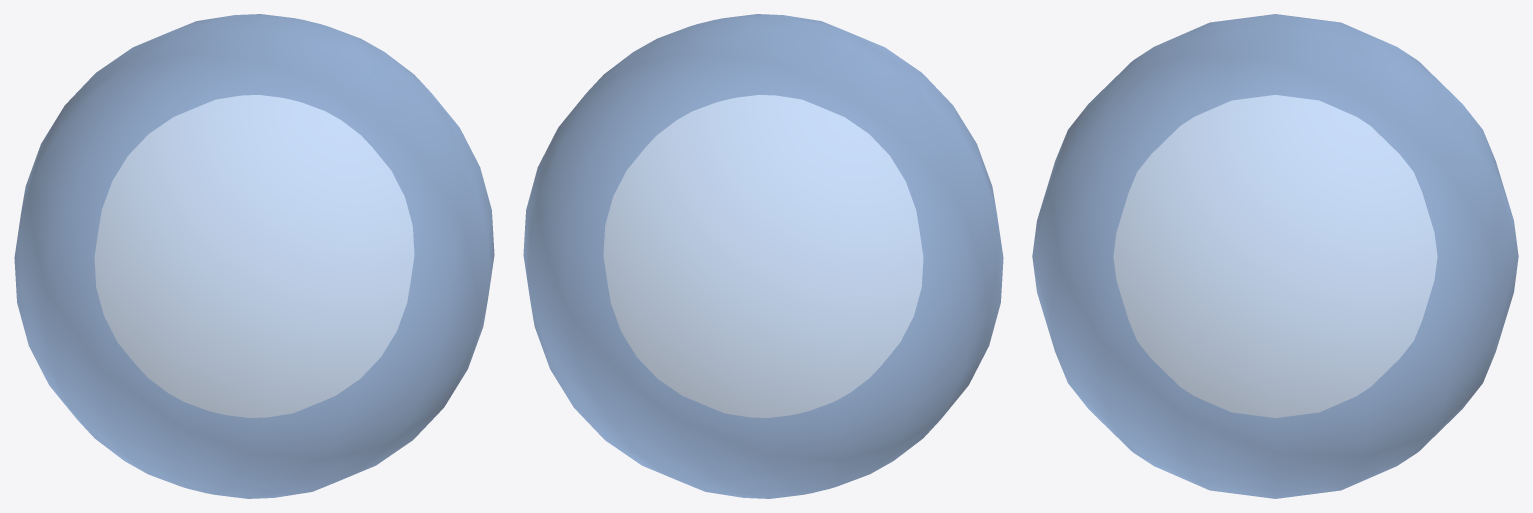
The model's file is tube1orb2.glb.
3 views of the same model, side by side, from view 1: azimuth 30°, elevation 25°; view 2: azimuth 150°, elevation 25°; view 3: azimuth 270°, elevation 25° (orthographic).
Visible parts, largest first — view 1: orboutside2, orbinside2; view 2: orboutside2, orbinside2; view 3: orboutside2, orbinside2.
Part boxes in pixels (bbox=[...]): orboutside2: bbox=[14, 14, 494, 498]; orbinside2: bbox=[94, 95, 414, 417]; orboutside2: bbox=[523, 14, 1003, 498]; orbinside2: bbox=[603, 95, 923, 417]; orboutside2: bbox=[1032, 14, 1518, 498]; orbinside2: bbox=[1113, 95, 1437, 417].
Size of the model in its own units: 0.5982 by 0.5982 by 0.6.
